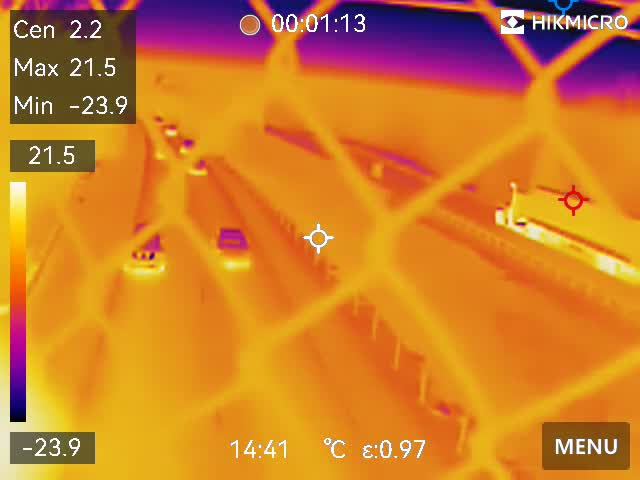heavyTruck: (492, 181, 640, 280)
vehicle: (212, 224, 258, 274), (127, 222, 165, 277), (184, 160, 215, 181), (176, 137, 197, 157), (159, 124, 179, 138)
